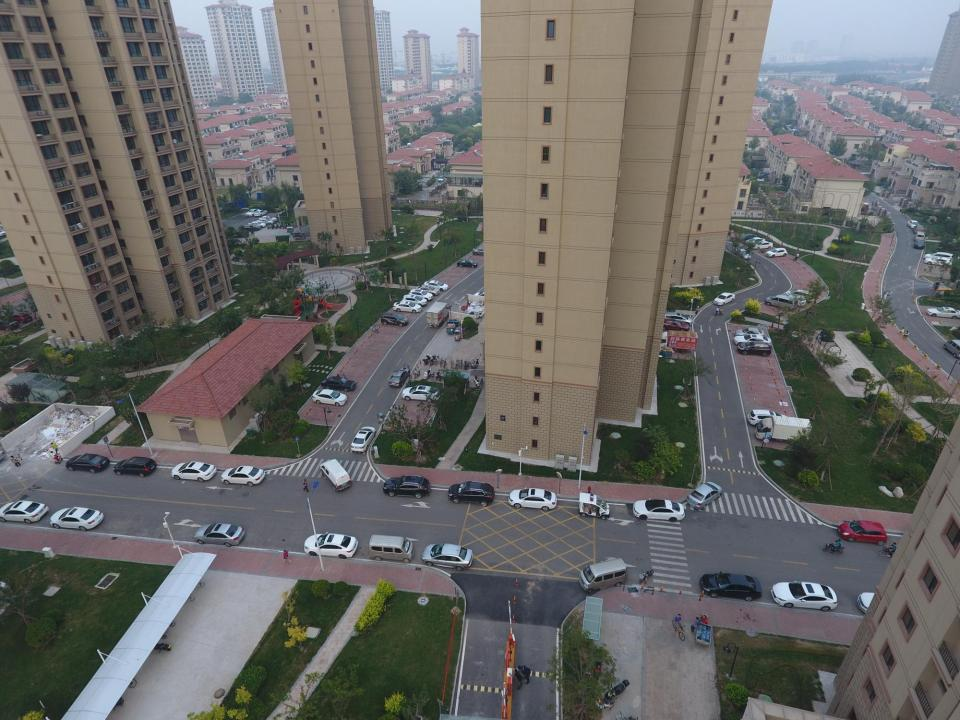car: (770, 580, 838, 610), (700, 572, 764, 602), (858, 590, 924, 617), (303, 532, 358, 560), (420, 542, 473, 571), (49, 505, 103, 531), (837, 519, 889, 546), (193, 522, 245, 548), (632, 497, 685, 522), (446, 481, 494, 507), (382, 474, 431, 499), (0, 499, 48, 524), (508, 487, 558, 511), (686, 480, 724, 510), (220, 465, 266, 486), (170, 461, 215, 482), (65, 453, 110, 473), (114, 456, 156, 477), (747, 408, 791, 425), (401, 385, 440, 403), (319, 374, 357, 392), (350, 426, 376, 451), (312, 389, 347, 407), (737, 341, 772, 356), (660, 311, 693, 326), (387, 367, 410, 388), (732, 335, 772, 347), (926, 306, 960, 320), (658, 318, 691, 332), (380, 312, 408, 327), (779, 293, 807, 307), (785, 289, 815, 302), (393, 301, 422, 313), (400, 294, 428, 306), (924, 252, 954, 263), (406, 289, 433, 301), (6, 312, 33, 324), (734, 328, 765, 338), (714, 292, 736, 306), (924, 256, 952, 267), (414, 285, 440, 296), (423, 280, 449, 291), (731, 246, 751, 260), (0, 316, 20, 330), (472, 247, 498, 256), (765, 247, 788, 257), (457, 258, 477, 269), (750, 241, 774, 250), (736, 234, 757, 242), (745, 237, 765, 245), (913, 239, 925, 249), (906, 220, 920, 228), (437, 175, 445, 182)
truck: (752, 416, 812, 445)
van: (578, 558, 627, 594), (368, 534, 414, 564), (320, 459, 351, 492), (764, 294, 799, 311), (942, 339, 960, 355), (914, 230, 925, 241), (913, 224, 925, 232)
